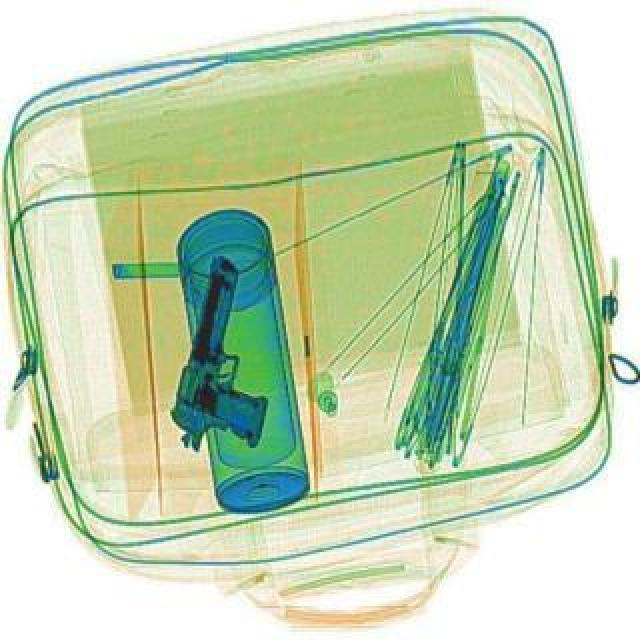gun: (156, 252, 308, 464)
